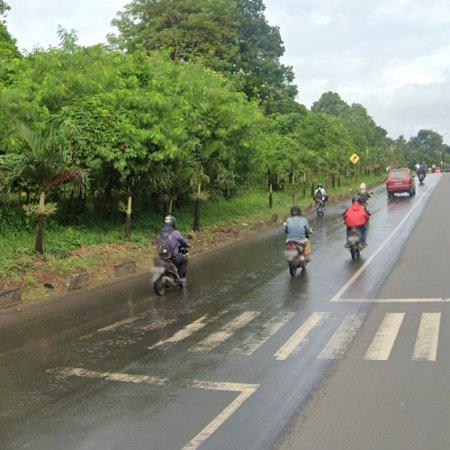crosswalks: (81, 307, 450, 361)
